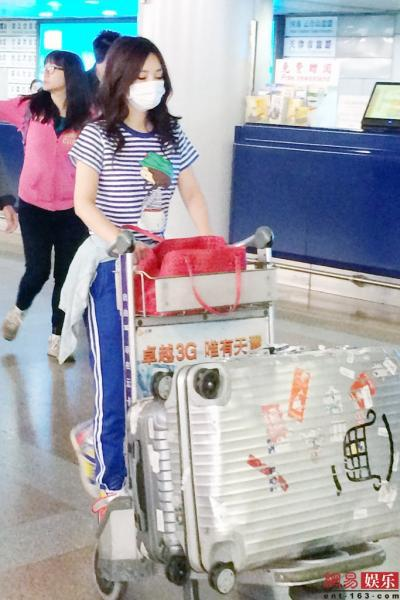NONE: (41, 64, 72, 92)
OK: (128, 64, 173, 109)
